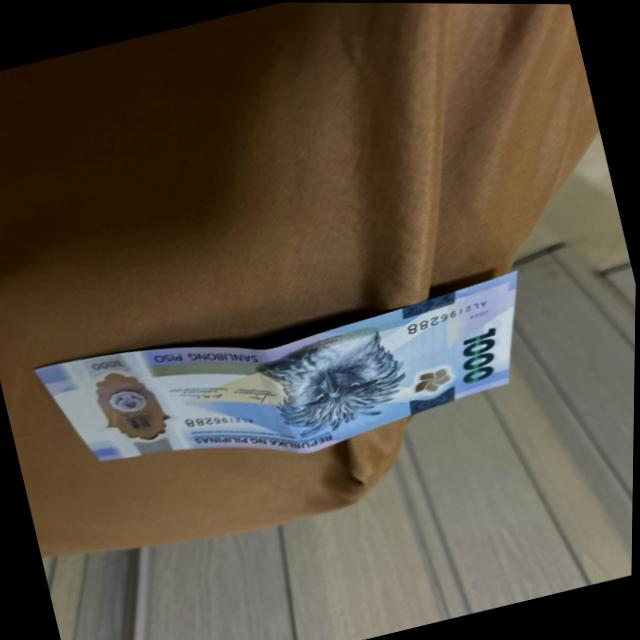clear_window: (82, 361, 183, 461)
eagle: (261, 323, 416, 442)
sampaguita: (414, 364, 457, 396)
